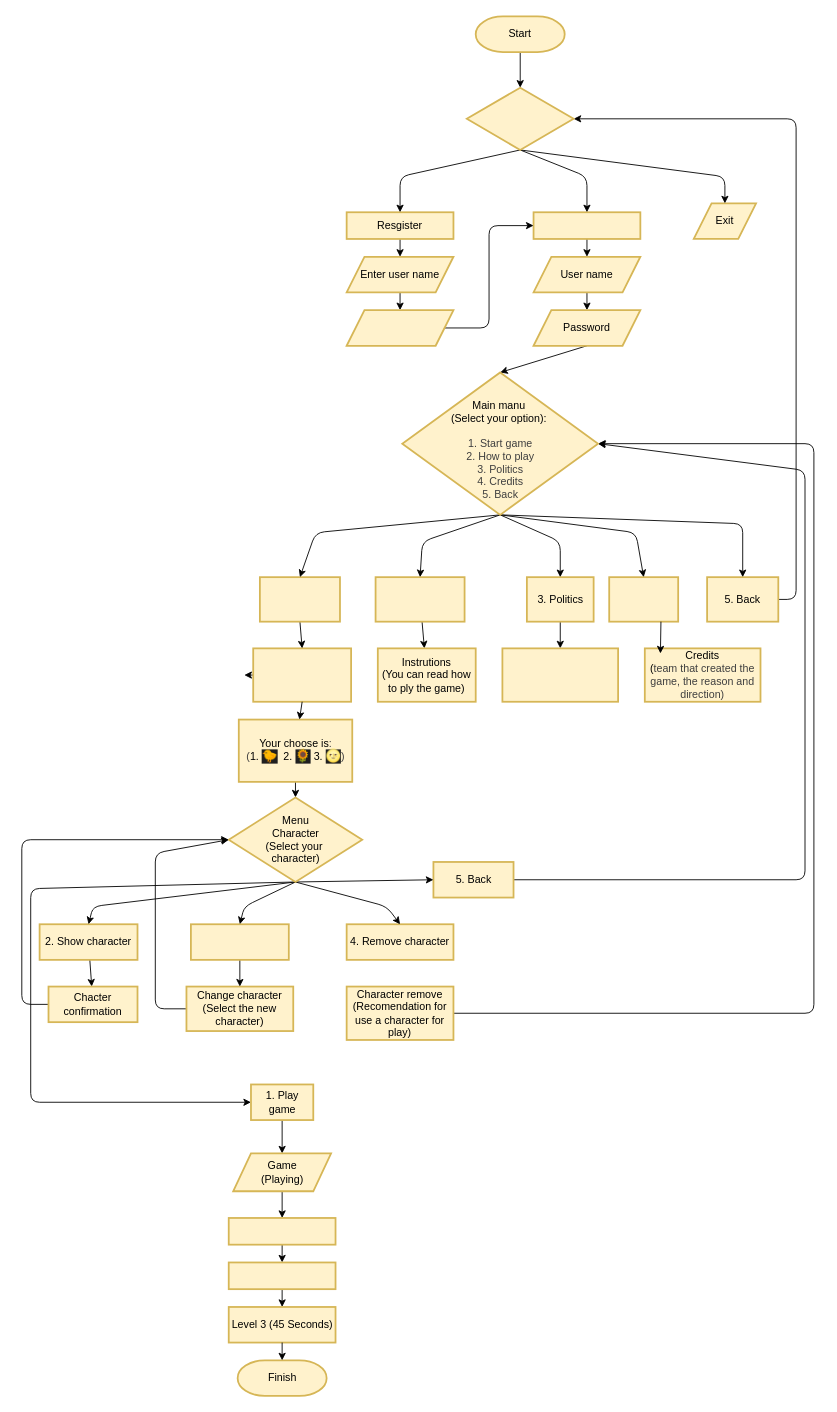
The diagram is 837 pixels wide and 1412 high, and some of its shapes have lost their labels. Each missing label, with the centre of its shape:
1. Start game: (x=299, y=599)
2. How to play: (x=419, y=599)
3. Edit character: (x=239, y=941)
4. Credits: (x=643, y=599)
Chose character (Select the character that you want): (x=302, y=674)
Enter password: (x=399, y=327)
Level 1 (45 Seconds): (x=281, y=1231)
Level 2 (45 Seconds): (x=281, y=1275)
Login: (x=586, y=225)
Menu (Choose an option): (x=519, y=118)
Privacy and use policy (The politics for play and use the game): (x=560, y=674)
